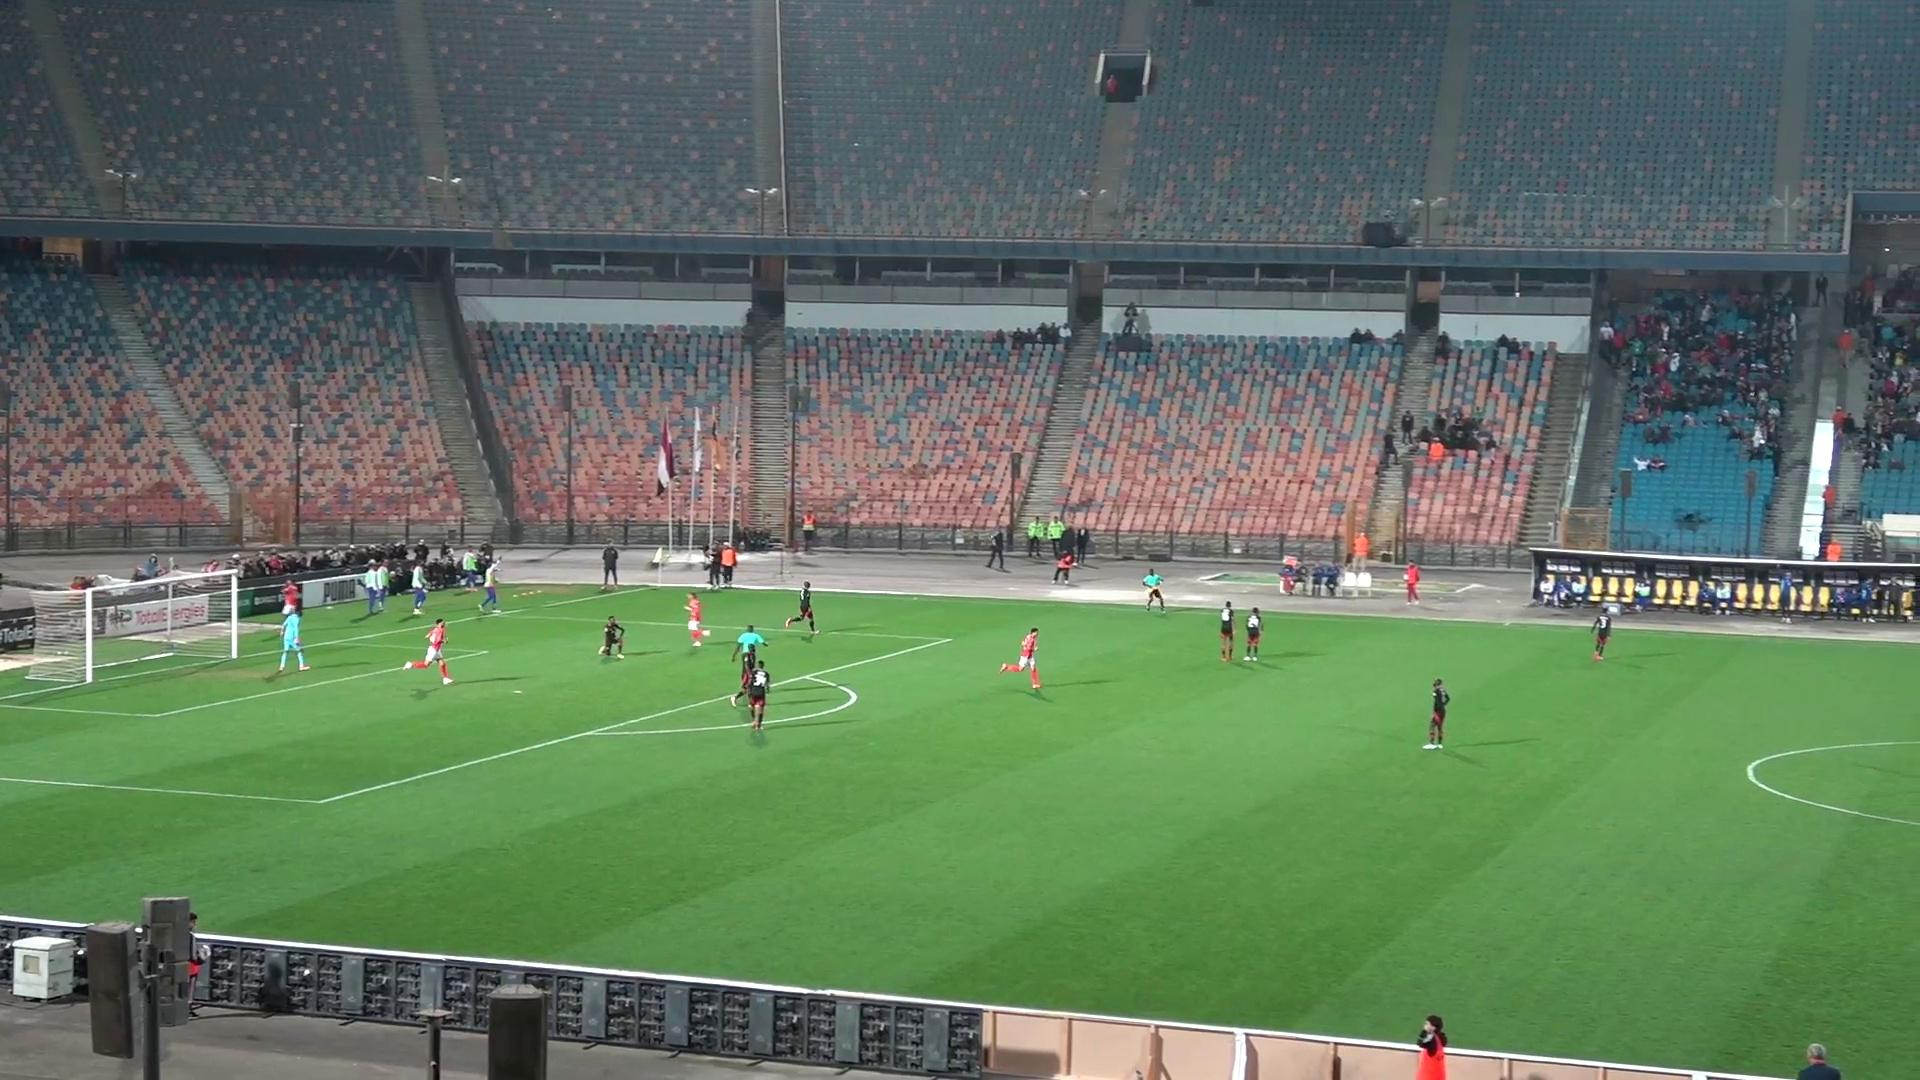GK2: (278, 584, 307, 673), (1218, 600, 1234, 661)
Refree: (731, 625, 767, 669), (1143, 568, 1167, 611)
Team1: (407, 618, 454, 684), (1001, 628, 1043, 691), (684, 593, 709, 647)
Team2: (731, 653, 771, 731), (1422, 678, 1451, 749), (783, 580, 819, 636), (597, 615, 626, 658), (1241, 609, 1265, 661), (1590, 613, 1613, 661)
